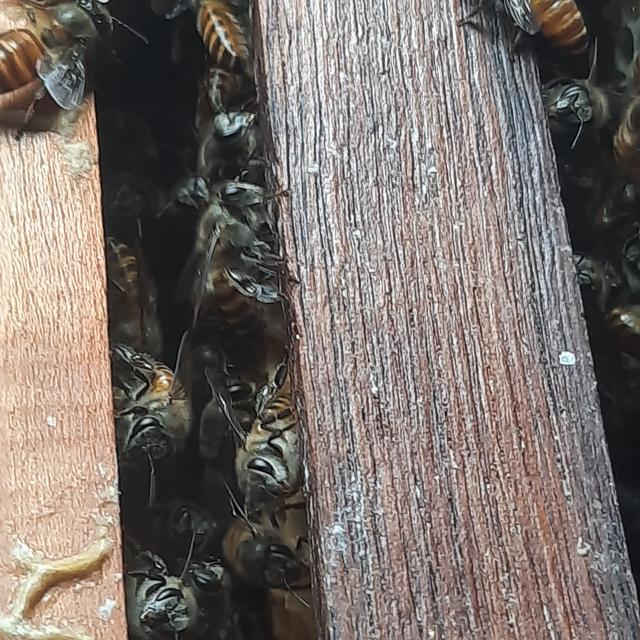honeybee: (193, 189, 288, 352), (223, 507, 367, 610), (0, 0, 116, 118), (92, 213, 168, 382), (102, 344, 204, 468), (238, 386, 337, 510), (564, 241, 640, 357), (110, 564, 217, 640), (141, 476, 221, 574), (490, 0, 602, 61), (170, 0, 261, 65), (538, 69, 600, 159), (201, 101, 263, 190), (100, 158, 156, 234), (206, 360, 256, 439)
